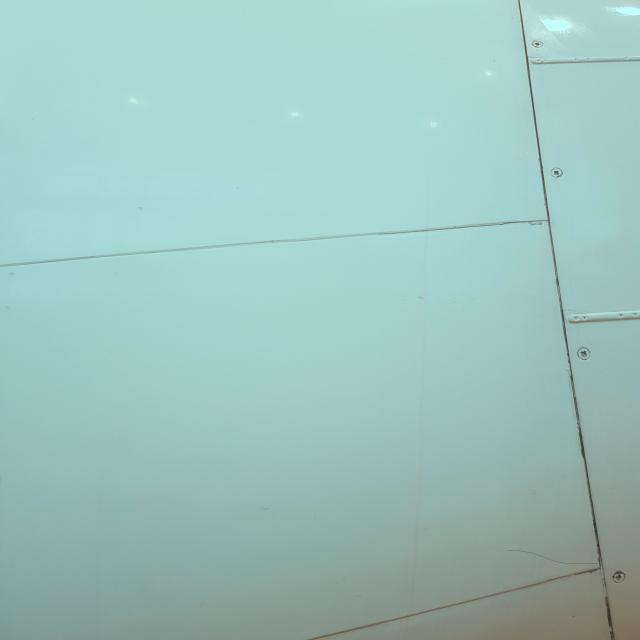crack: (509, 540, 608, 572)
